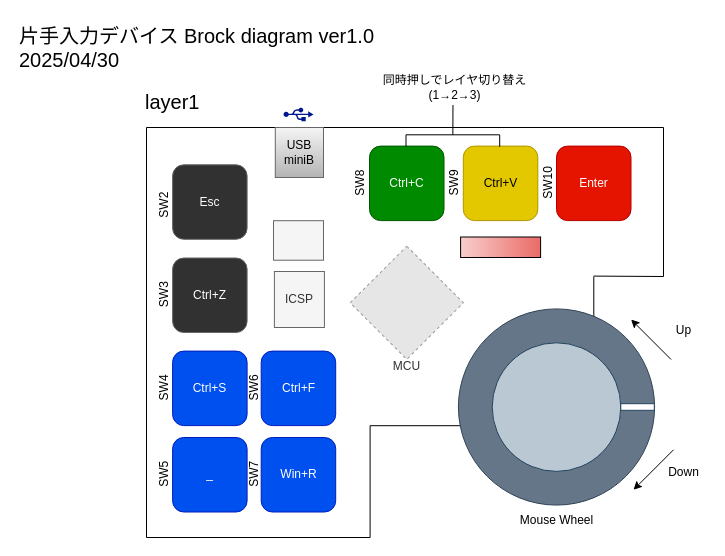
This 725x556 diagram has some shape labels left out. Grey dashed boxes stand in for pictures. The shapes that lost their labels are listed below. From the top down, each one's box as (x1, y1, x2, y2) in pixels, then its label:
(272, 220, 324, 260): RESET SW
(460, 236, 541, 258): LED
(491, 342, 621, 471): ENC
